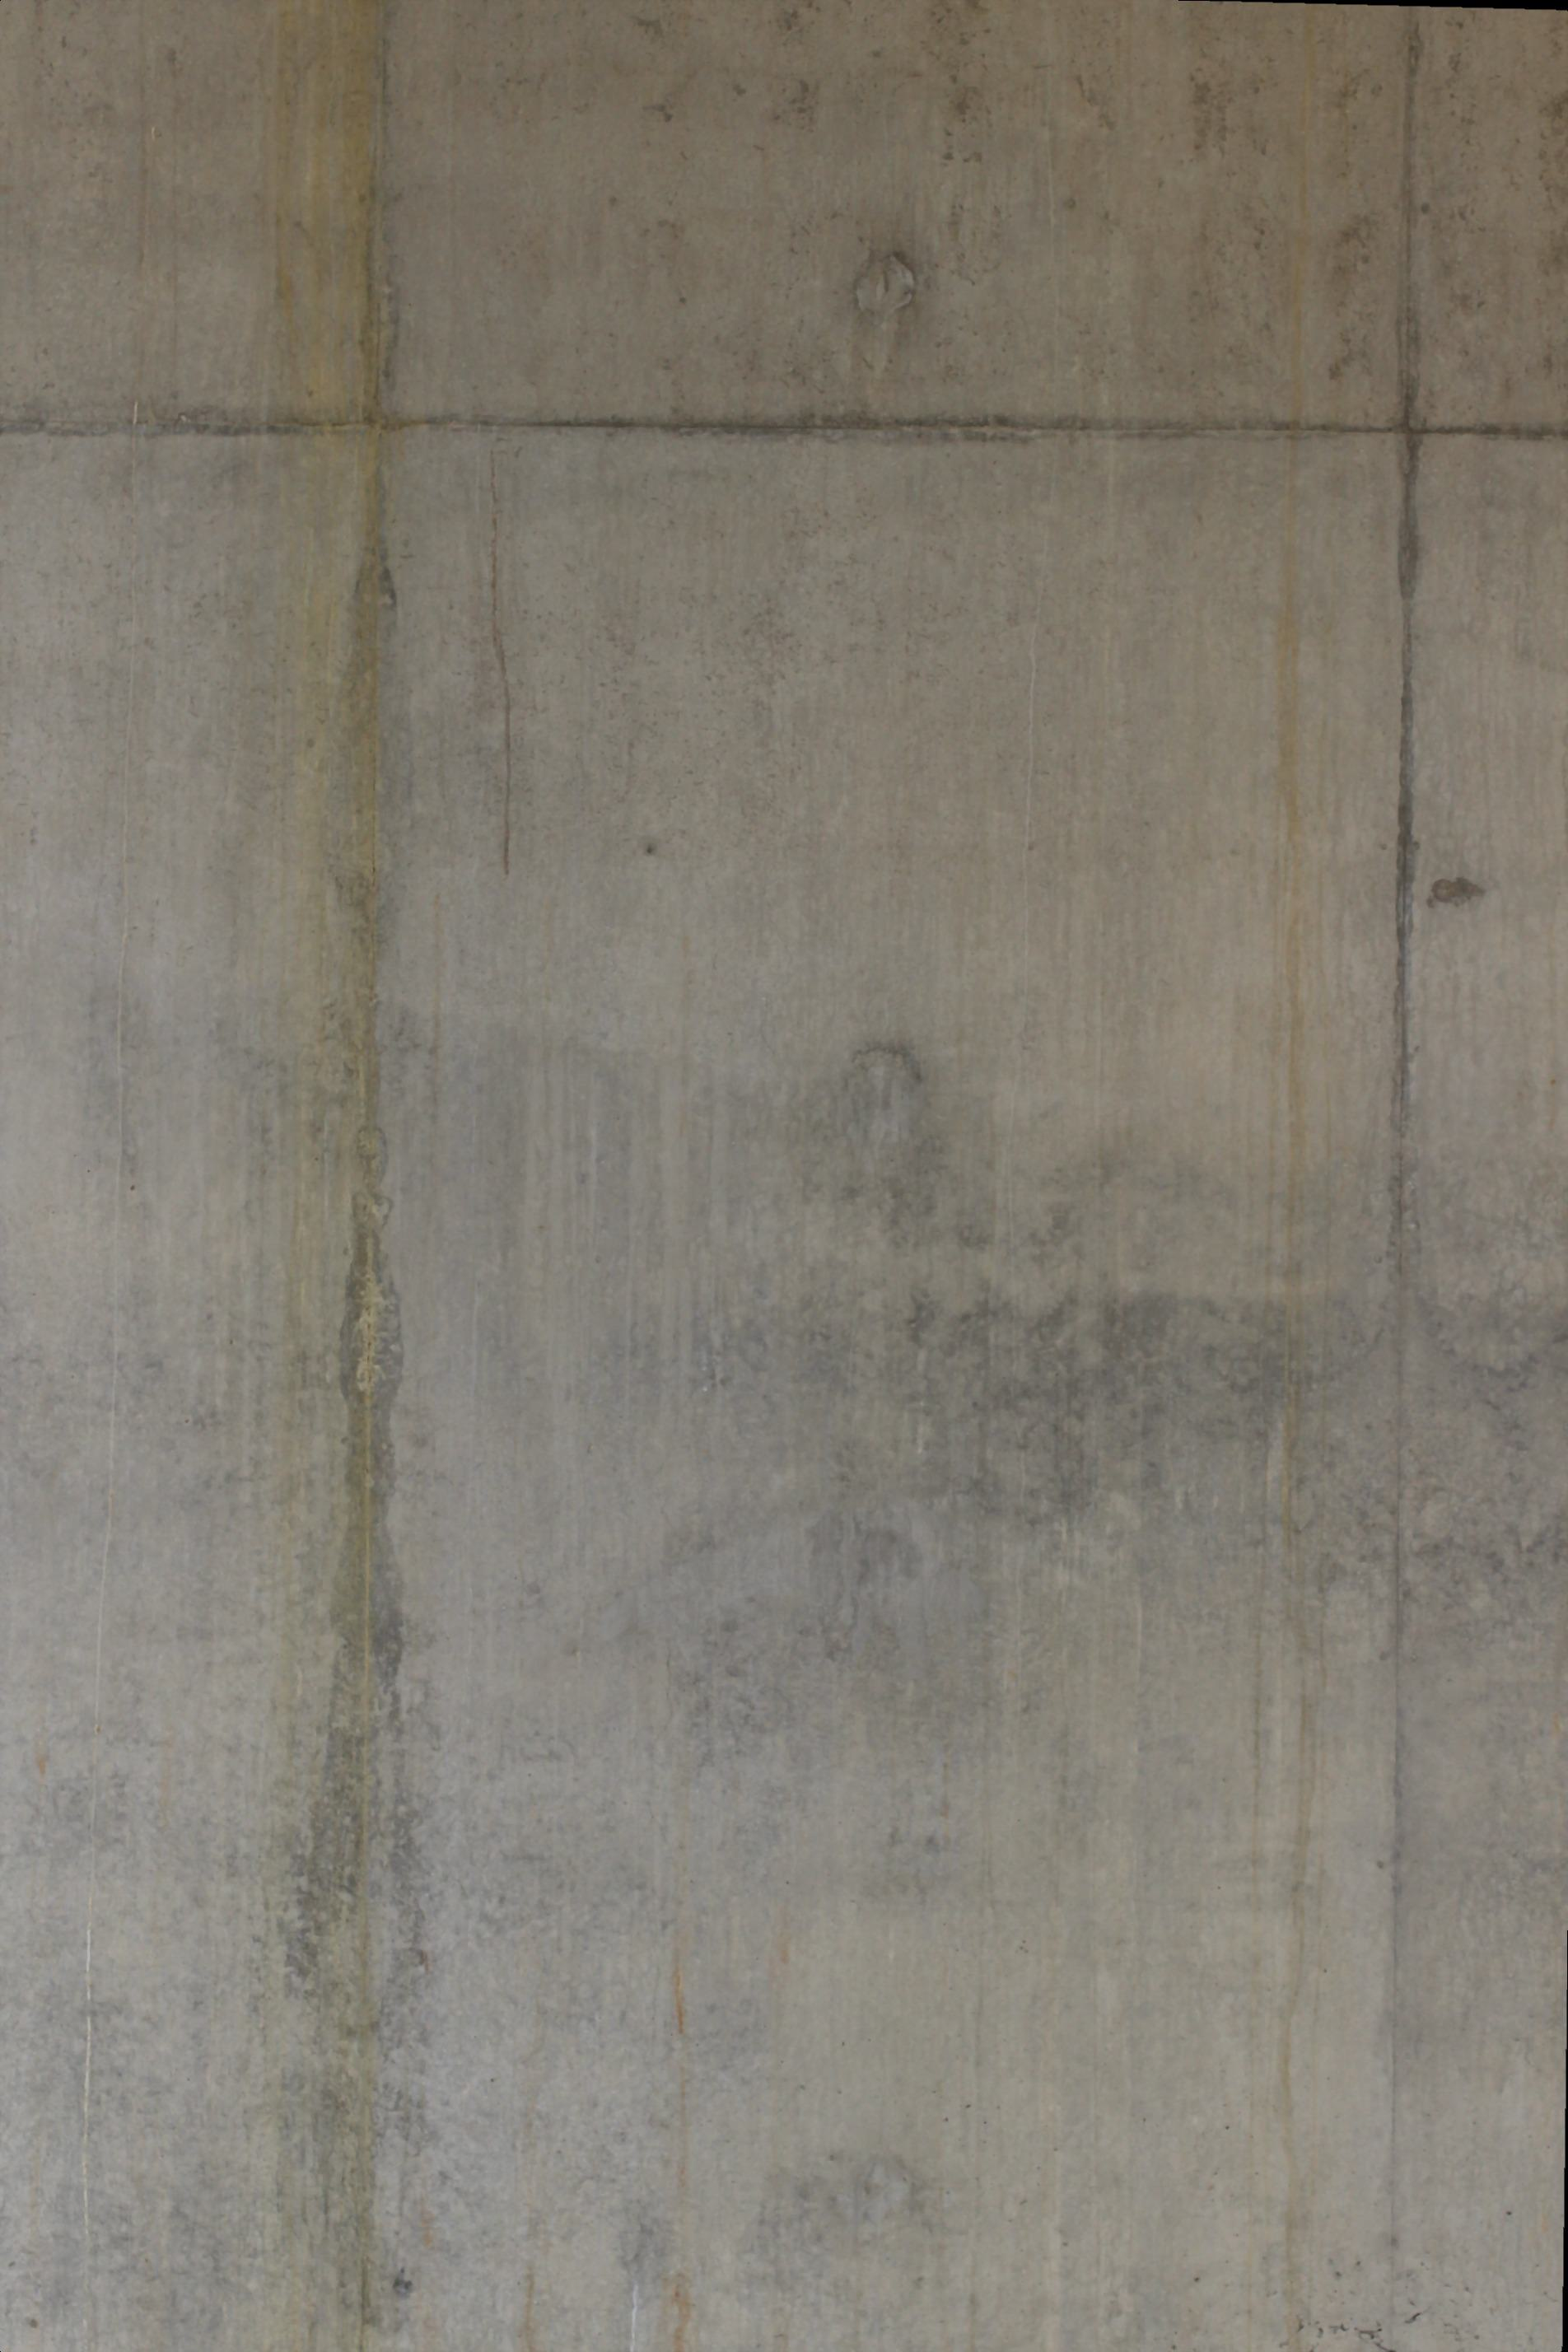Corrosion: (285, 0, 406, 2352)
Spalling: (854, 254, 919, 317)
